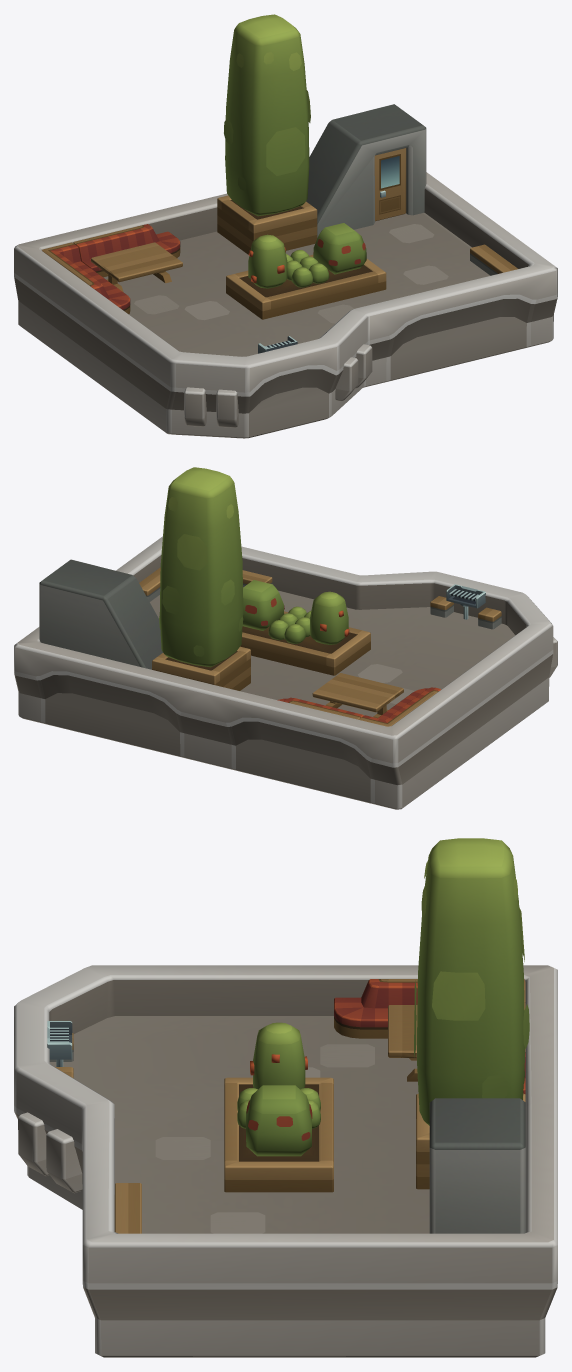
The model's file is appartment_type2_roof_type1_deco.fbx.
3 views of the same model, one above another, from view 1: azimuth 30°, elevation 25°; view 2: azimuth 150°, elevation 25°; view 3: azimuth 270°, elevation 25° (orthographic). The views are drawn at different scales.
Parts seen in each view (by area): view 1: appartment_type2_roof_type1_deco, door_wood_rooftop_doorway; view 2: appartment_type2_roof_type1_deco; view 3: appartment_type2_roof_type1_deco.
Boxes of the visible parts, x1,y1,x2,y2 form: appartment_type2_roof_type1_deco: [14, 14, 557, 438]; door_wood_rooftop_doorway: [374, 148, 406, 221]; appartment_type2_roof_type1_deco: [14, 467, 557, 809]; appartment_type2_roof_type1_deco: [14, 838, 557, 1357].
Bounding box in the file's own units: 1210 × 790 × 992.
